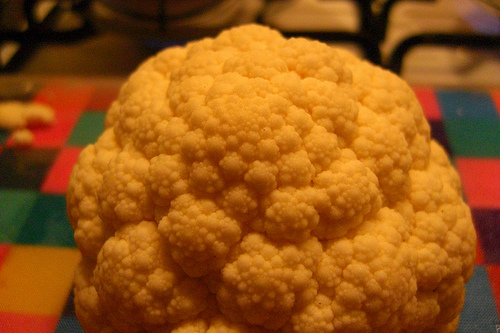cauliflower: (67, 24, 476, 332)
